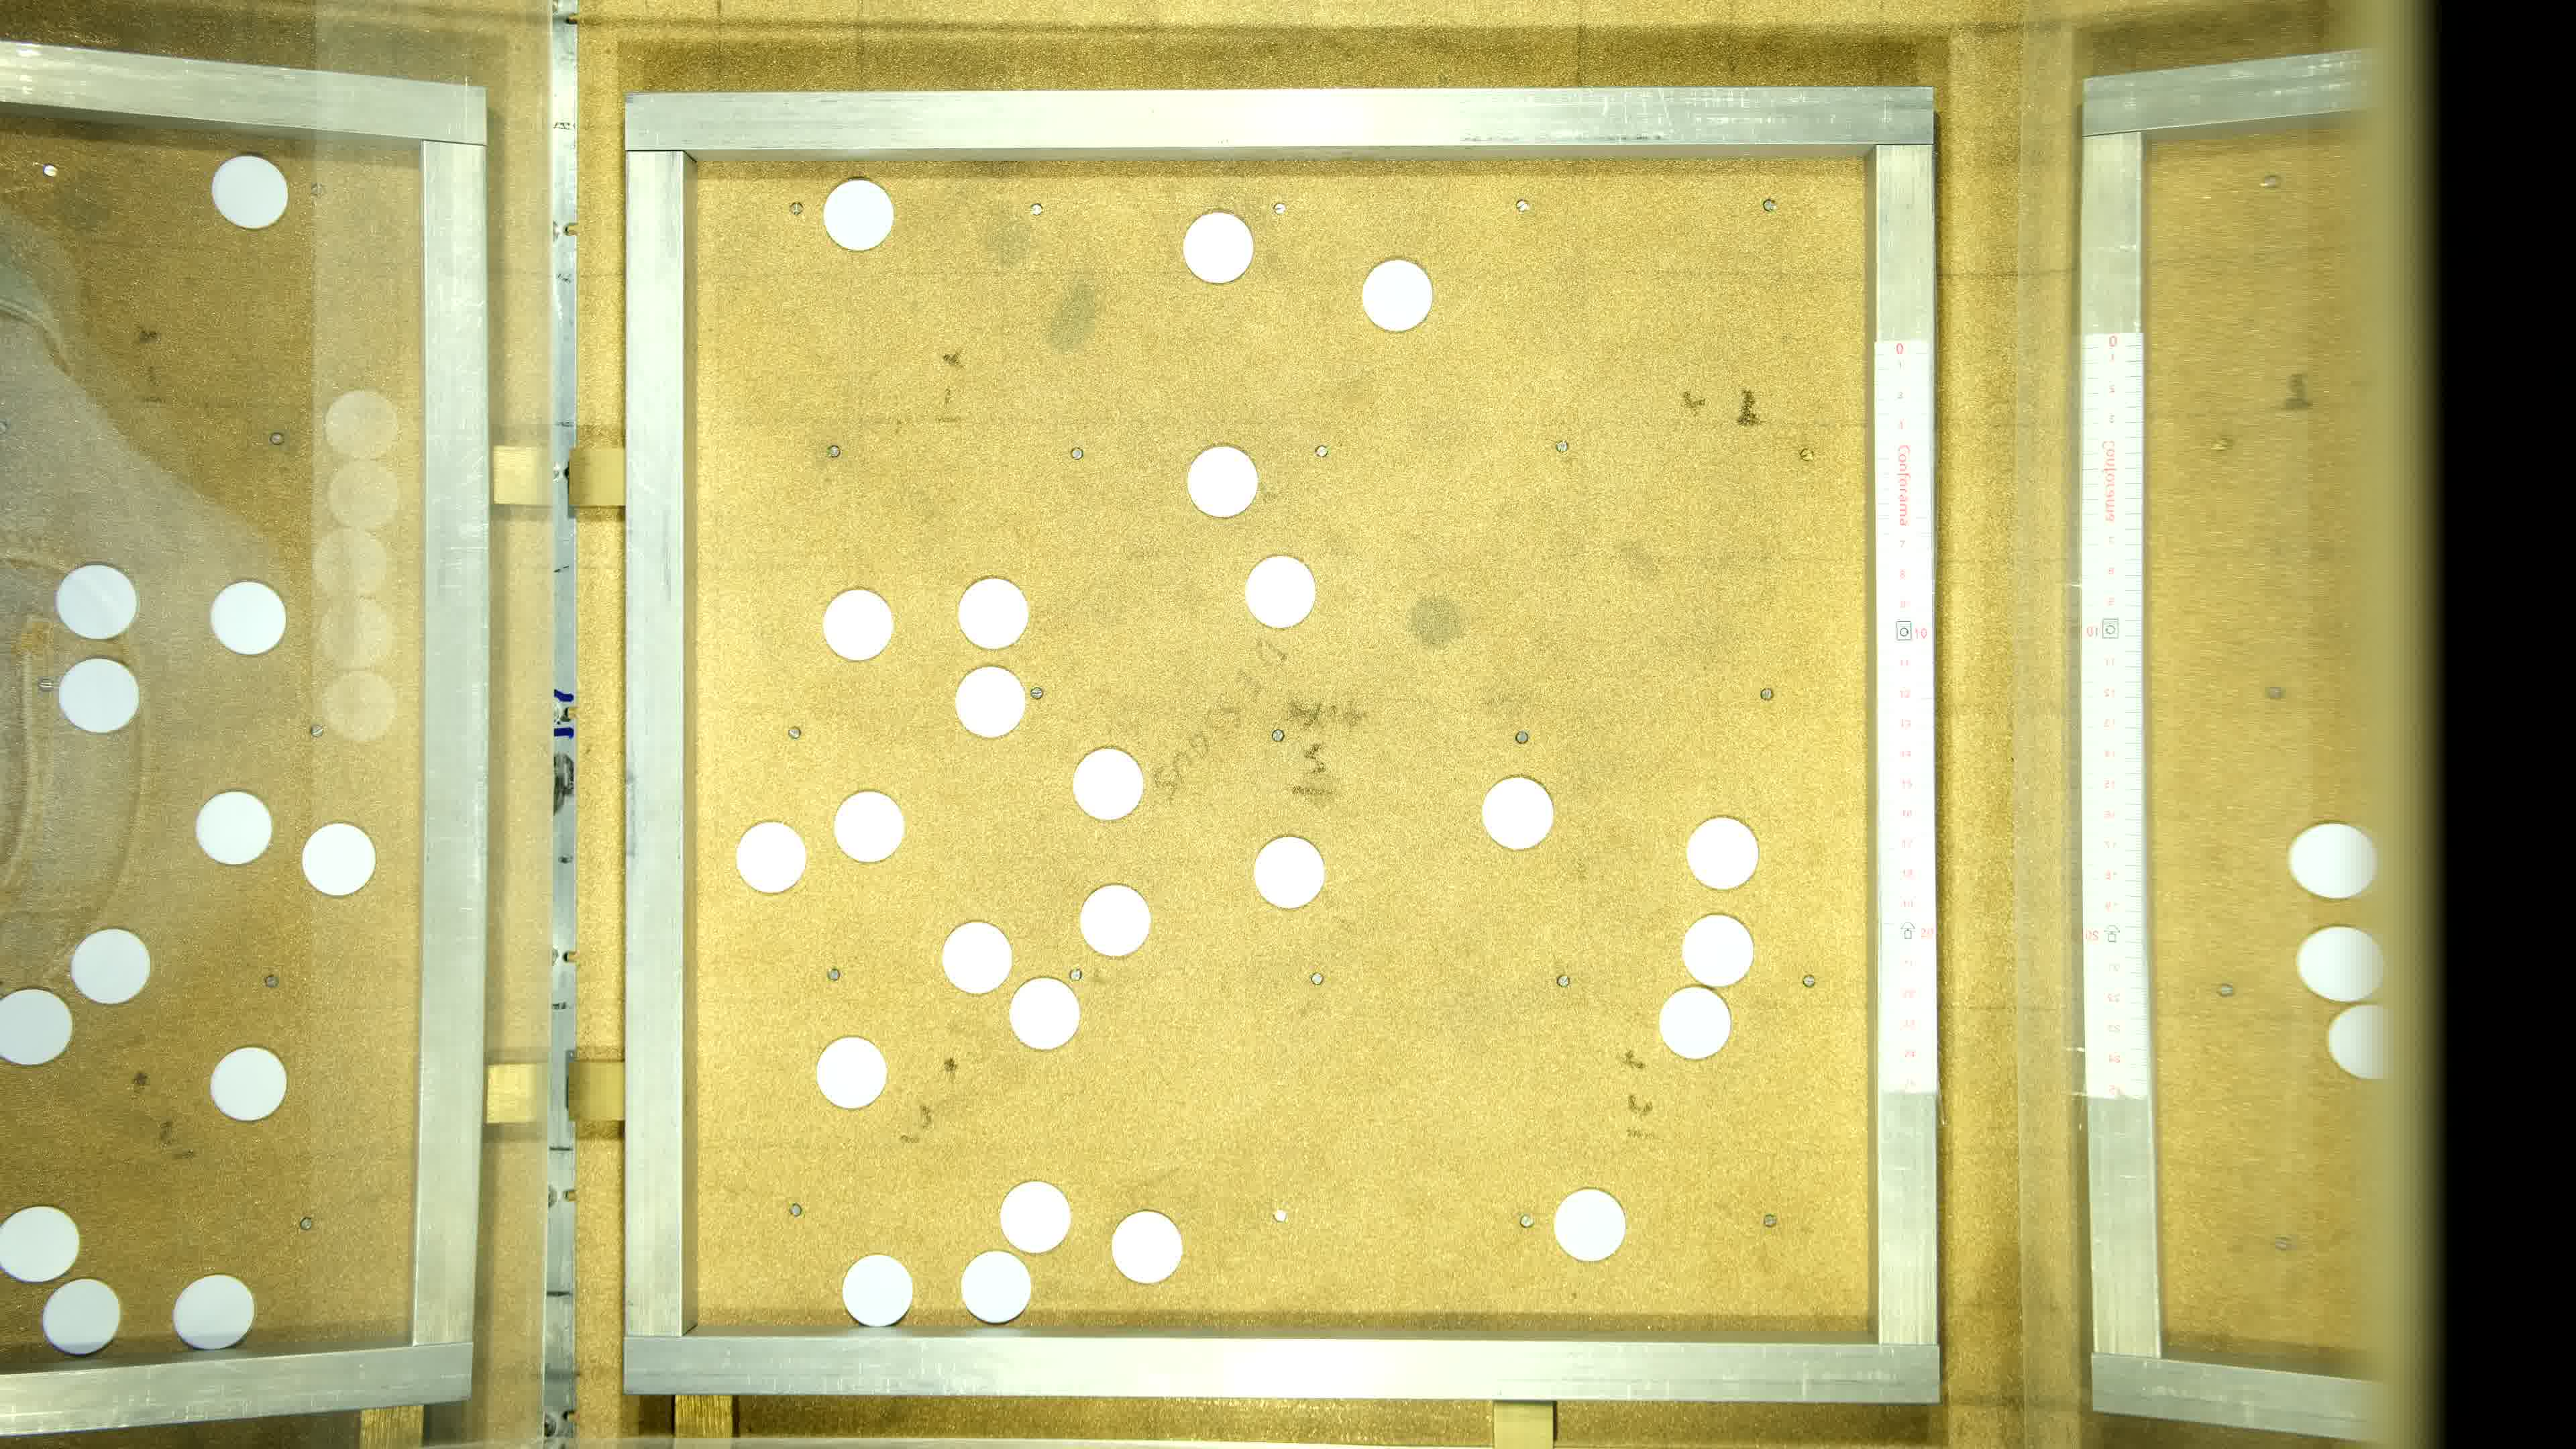pallet: (821, 179, 895, 253), (814, 1035, 888, 1109), (1180, 211, 1254, 285), (1000, 1180, 1072, 1254), (1683, 915, 1755, 989), (1686, 817, 1759, 892), (1483, 775, 1555, 849), (939, 920, 1014, 993), (832, 789, 904, 863), (1072, 747, 1145, 821), (954, 665, 1028, 738), (959, 1251, 1033, 1323), (1658, 987, 1730, 1060), (1111, 1210, 1184, 1283), (1251, 837, 1323, 909), (1008, 977, 1081, 1049), (1079, 883, 1152, 955), (734, 821, 807, 893), (1244, 556, 1316, 628), (957, 577, 1030, 649), (821, 587, 893, 660), (1185, 446, 1258, 518), (1361, 258, 1433, 331), (840, 1254, 913, 1327), (1553, 1187, 1626, 1260)
